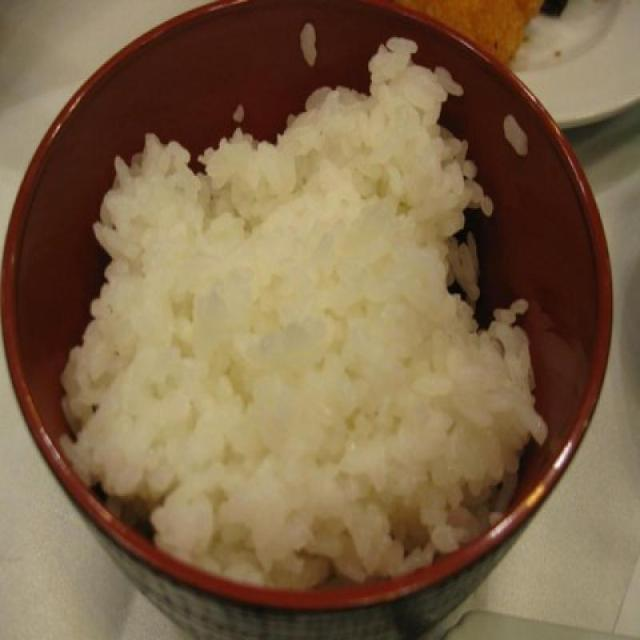nasi_putih: (64, 34, 546, 587)
